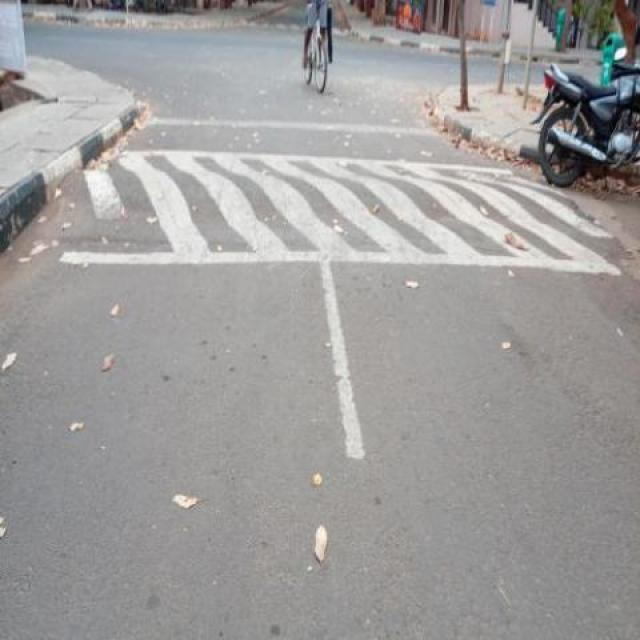Speed Bump: (41, 150, 616, 260)
